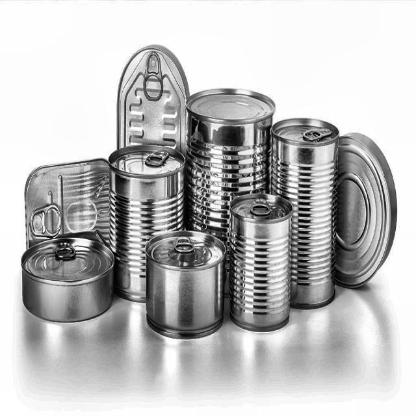Can: (185, 87, 277, 299), (270, 112, 338, 310), (107, 138, 188, 304), (335, 128, 399, 294), (116, 43, 192, 176), (143, 226, 227, 344), (15, 229, 116, 325), (24, 152, 116, 252), (228, 192, 292, 334)
